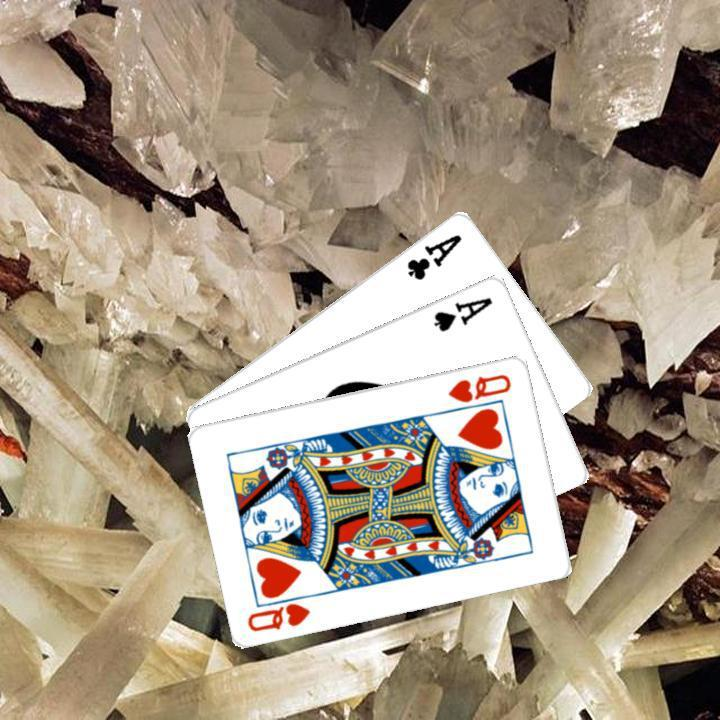A: (402, 229, 464, 282), (429, 292, 495, 333)
Q: (243, 588, 318, 633), (444, 369, 514, 404)
